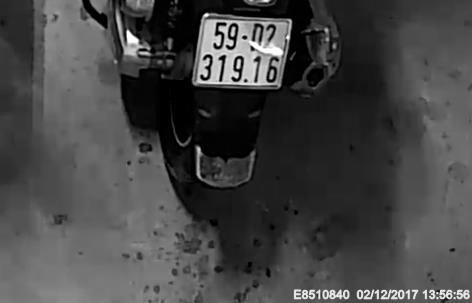License-plate: (189, 8, 297, 101)
